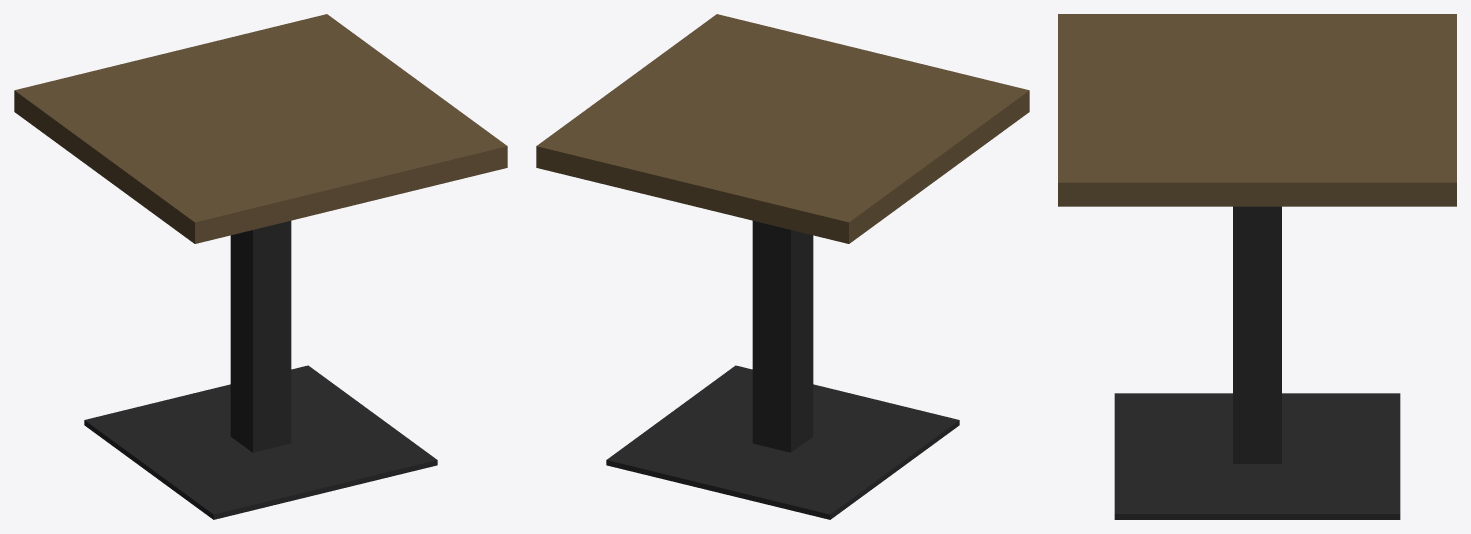
File: Quick table.fbx
The picture shows the model from 3 angles, left to right: view 1: azimuth 30°, elevation 25°; view 2: azimuth 150°, elevation 25°; view 3: azimuth 270°, elevation 25°; orthographic projection. The views are drawn at different scales.
Visible parts, largest first — view 1: Quick table; view 2: Quick table; view 3: Quick table.
Part boxes in pixels (box(x1,y1,x2,y2)): Quick table: box(14, 14, 507, 519); Quick table: box(536, 14, 1029, 519); Quick table: box(1058, 14, 1456, 519).
Bounding box in the file's own units: 0.7 × 0.6997 × 0.7.
